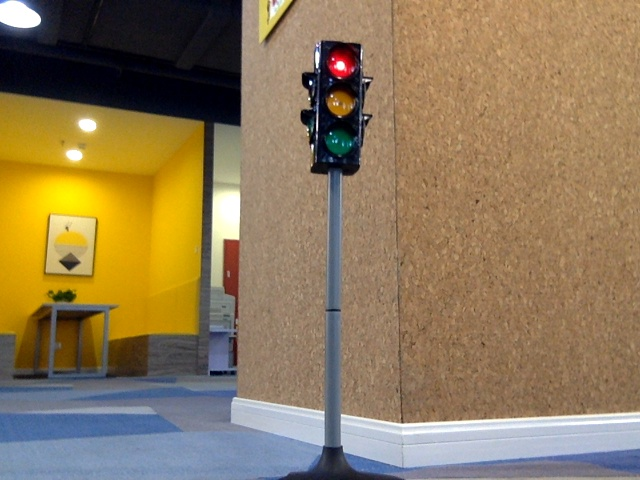red: (316, 43, 357, 160)
